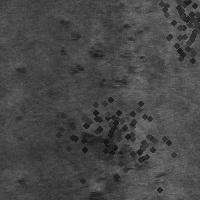rolled-in_scale: (43, 68, 159, 184), (80, 82, 188, 190), (65, 113, 162, 198), (136, 0, 200, 79), (80, 28, 150, 91)
